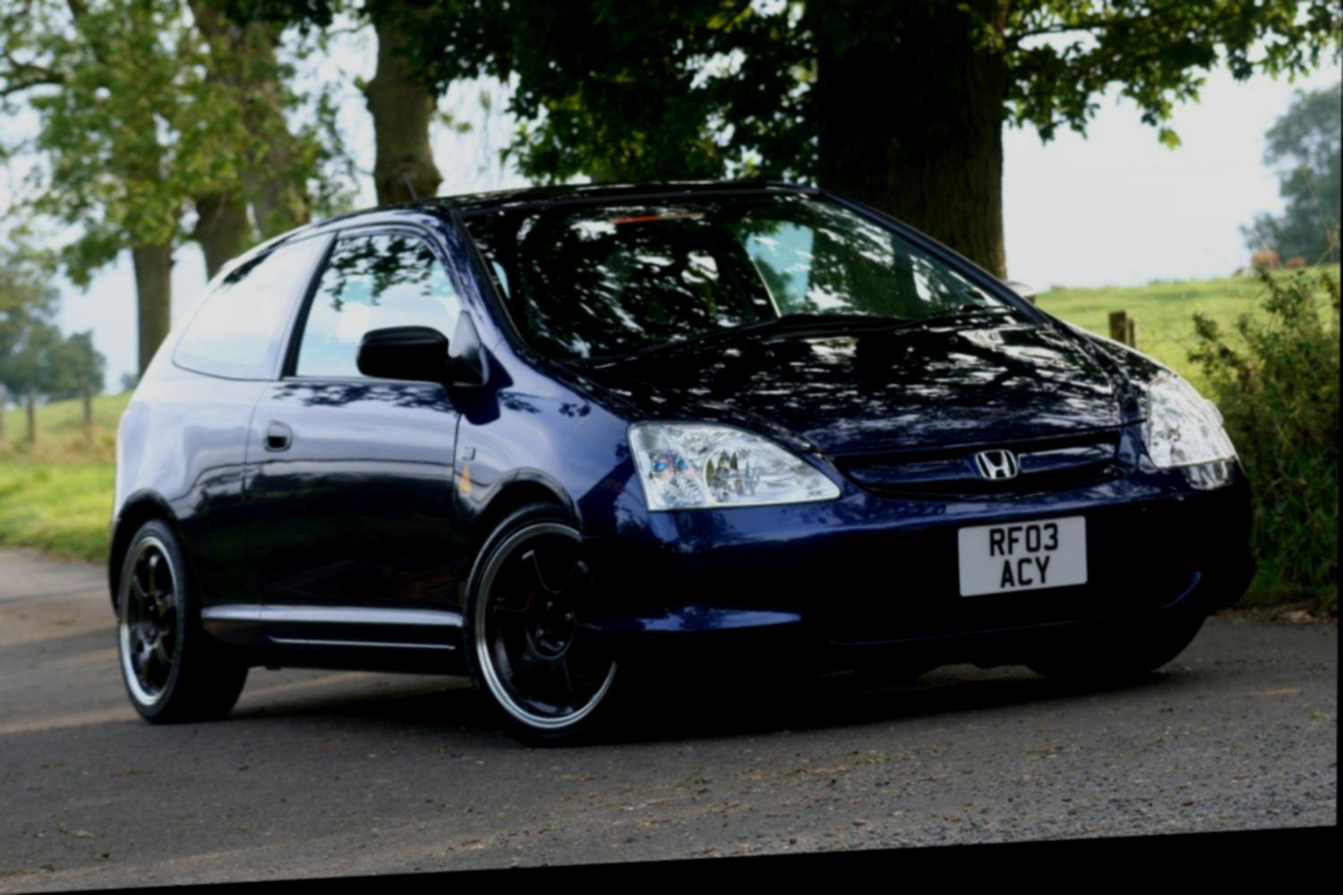License_Plate: (947, 507, 1101, 601)
